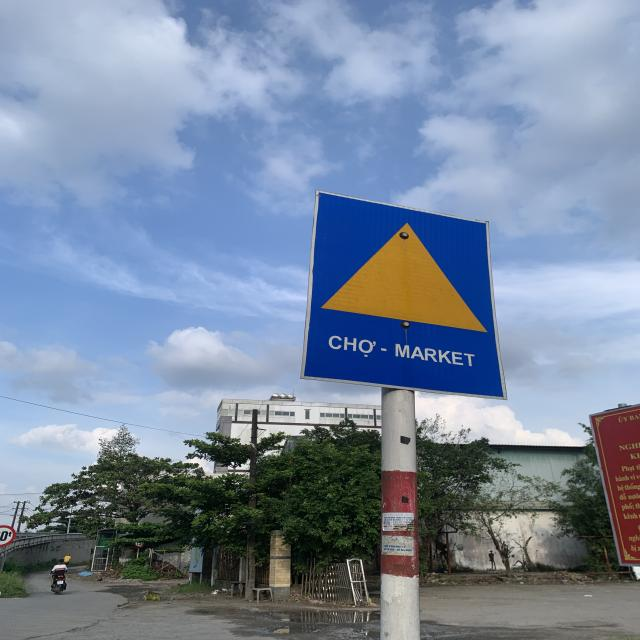Cho_Quay_Xe: (300, 188, 506, 396)
